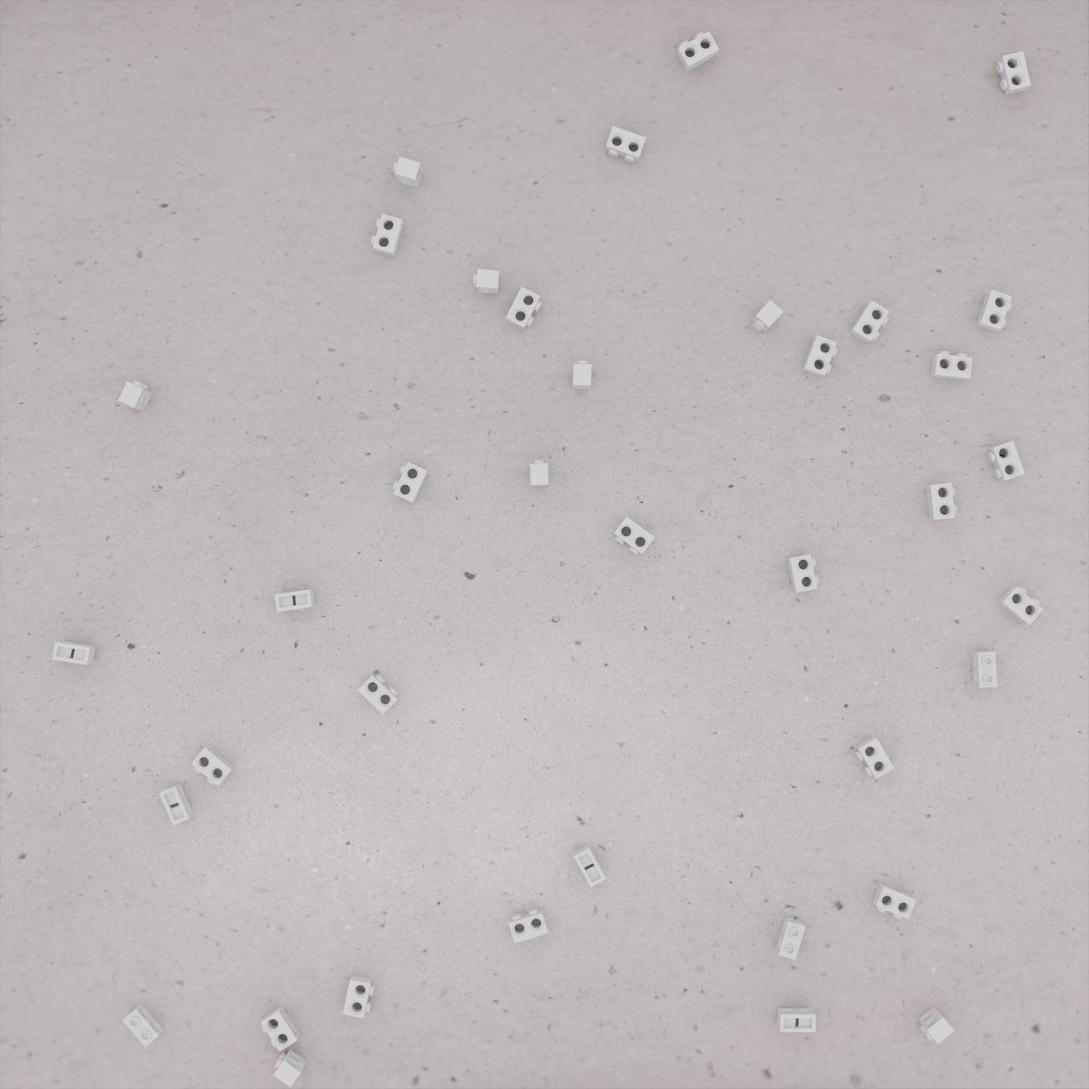lego: (260, 1005, 300, 1052), (122, 1003, 164, 1047), (191, 745, 235, 786), (998, 586, 1044, 625), (849, 300, 890, 343), (357, 674, 399, 715), (677, 31, 719, 72), (855, 736, 895, 779), (872, 883, 917, 920), (613, 516, 655, 555), (505, 286, 542, 330), (988, 440, 1025, 482), (996, 51, 1031, 95), (976, 290, 1012, 332), (802, 335, 838, 377), (159, 783, 194, 826), (392, 462, 428, 503), (605, 126, 646, 162), (573, 844, 606, 888), (508, 908, 548, 944), (371, 214, 404, 257), (918, 1006, 955, 1044), (343, 975, 375, 1018), (775, 916, 806, 960), (273, 1049, 307, 1088), (787, 554, 819, 593), (931, 351, 973, 380), (926, 483, 957, 520), (751, 300, 784, 332), (52, 641, 96, 665), (118, 380, 152, 411), (972, 650, 997, 688), (777, 1008, 816, 1032), (393, 157, 423, 188), (275, 589, 315, 612), (473, 269, 500, 294), (572, 361, 592, 389), (530, 460, 549, 487)
